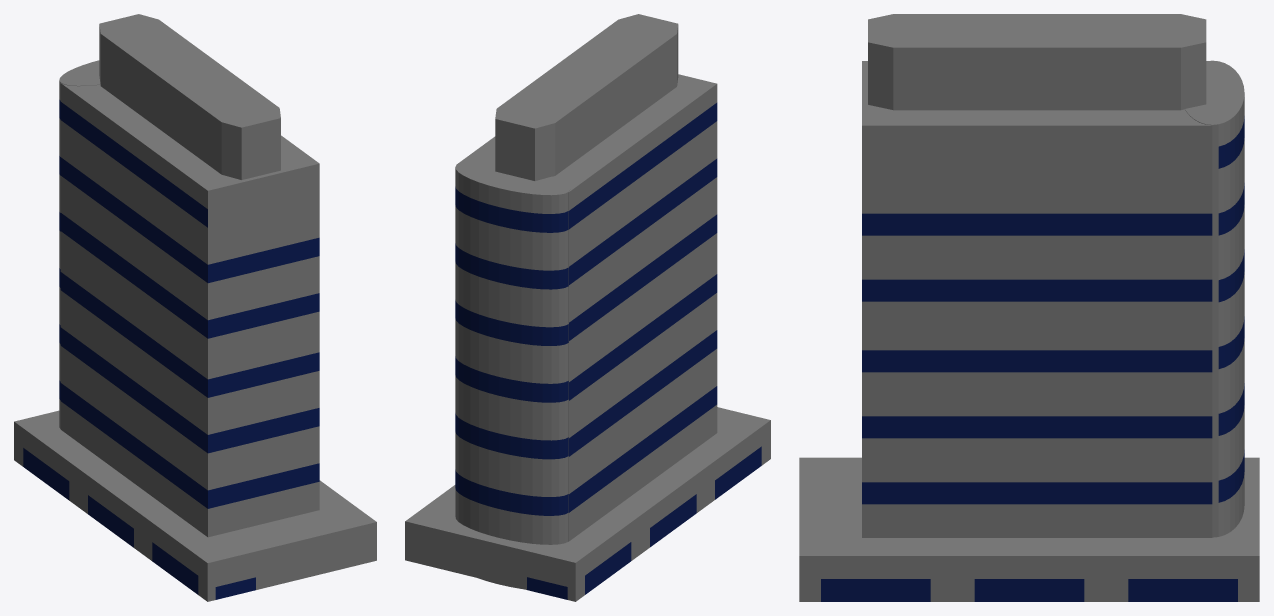
Rendered from 新型楕円ビル.fbx.
3 views of the same model, side by side, from view 1: azimuth 30°, elevation 25°; view 2: azimuth 150°, elevation 25°; view 3: azimuth 270°, elevation 25° (orthographic). The views are drawn at different scales.
Parts seen in each view (by area): view 1: 立方体.001, Cube, 円柱; view 2: 立方体.001, 円柱, Cube; view 3: 立方体.001, Cube, 円柱.
Boxes of the visible parts, x1=… form: 立方体.001: x1=60, y1=14, x2=319, y2=537; Cube: x1=14, y1=410, x2=376, y2=601; 円柱: x1=59, y1=60, x2=100, y2=428; 立方体.001: x1=456, y1=14, x2=717, y2=541; 円柱: x1=455, y1=161, x2=569, y2=588; Cube: x1=405, y1=407, x2=770, y2=601; 立方体.001: x1=862, y1=14, x2=1212, y2=537; Cube: x1=799, y1=457, x2=1259, y2=601; 円柱: x1=1185, y1=60, x2=1244, y2=537.
Bounding box in the file's own units: 724 × 1821 × 1435.
